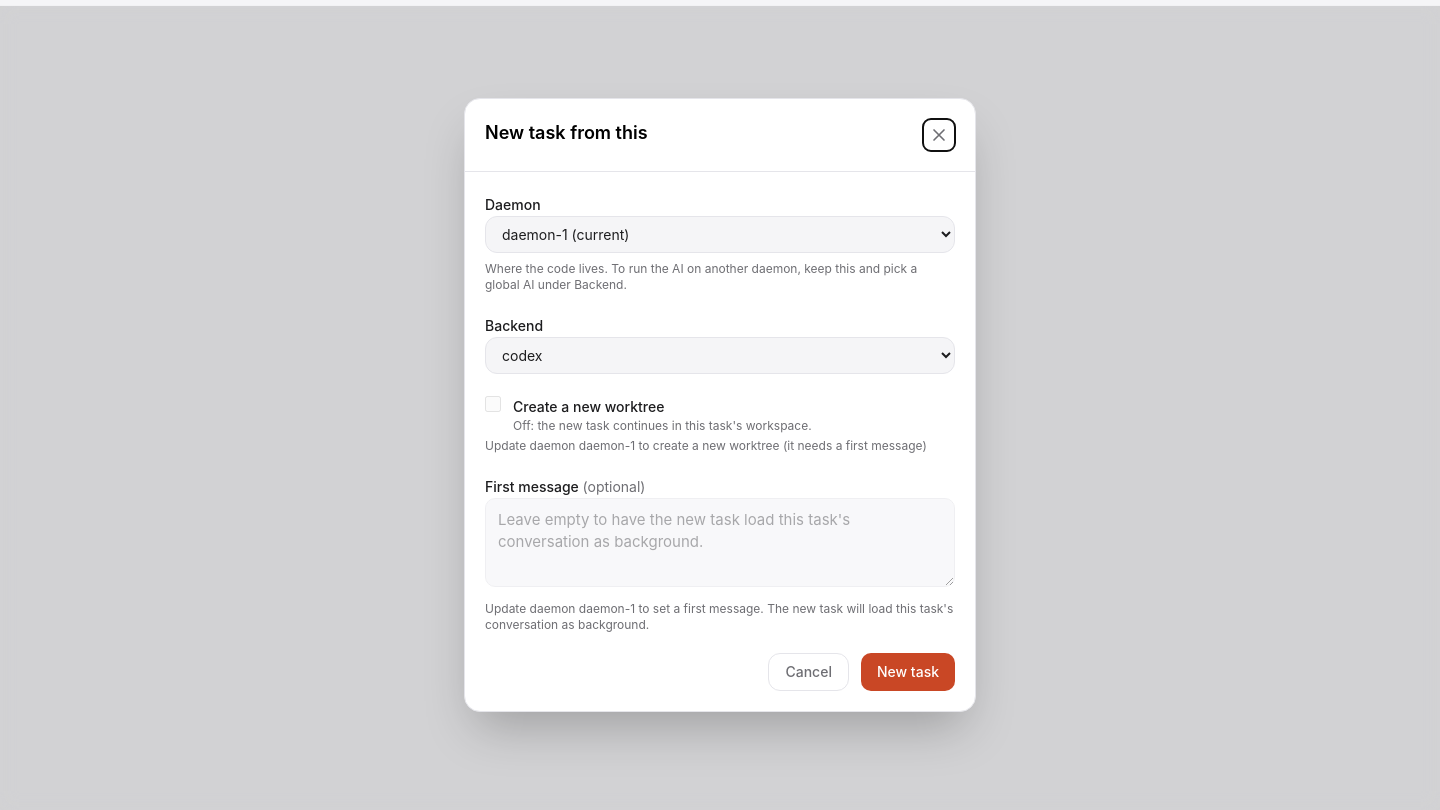
Test: RestartTaskControls › new worktree › is disabled when the selected daemon does not hold the repository
Step 1. Select "daemon-2" in the dropdown labelled "Daemon" → (720, 234), box [485,216,955,253]
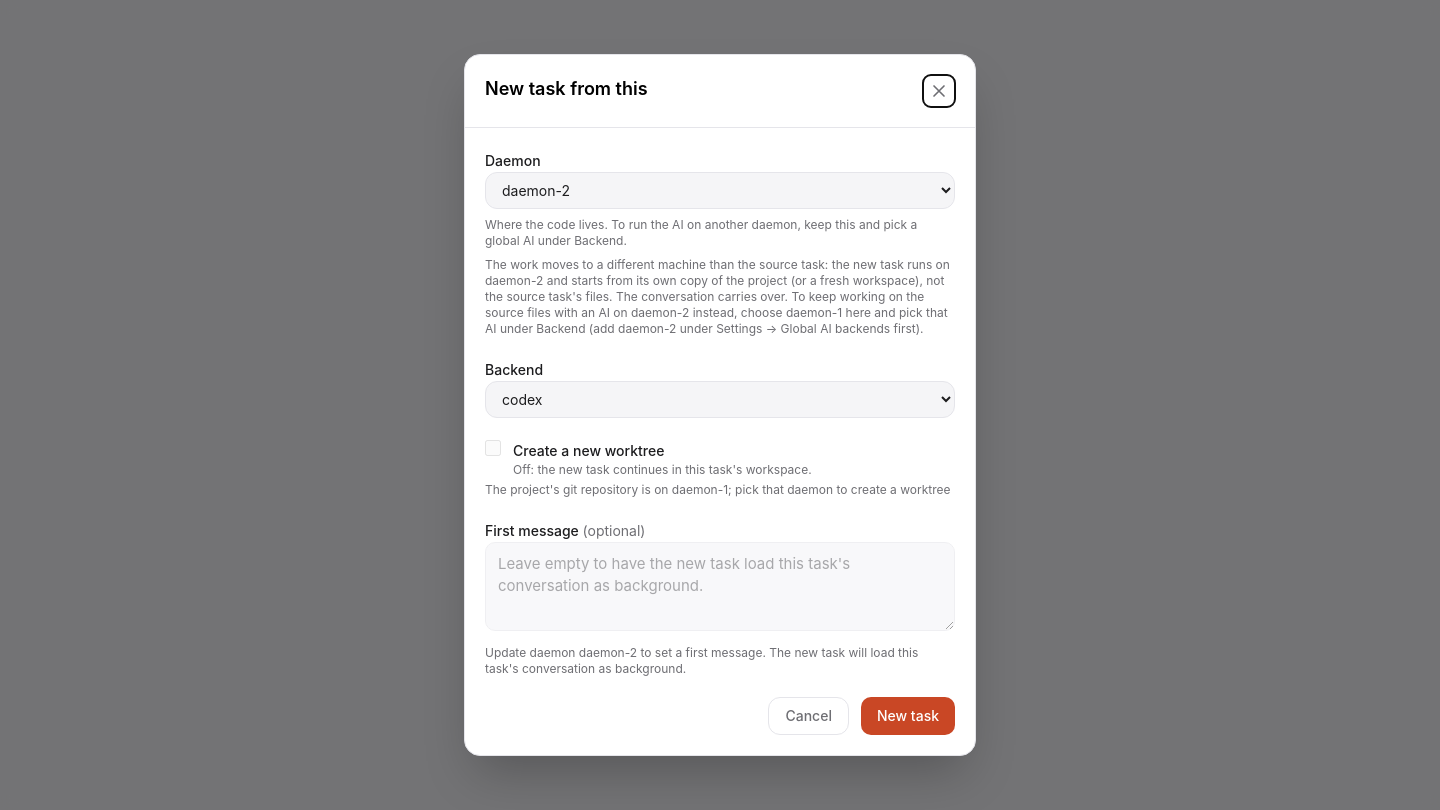
Check: the checkbox labelled "Create a new worktree" is disabled, box [485,440,501,456]
Check: the text "git repository is on daemon-1" is shown, box [485,482,950,497]
